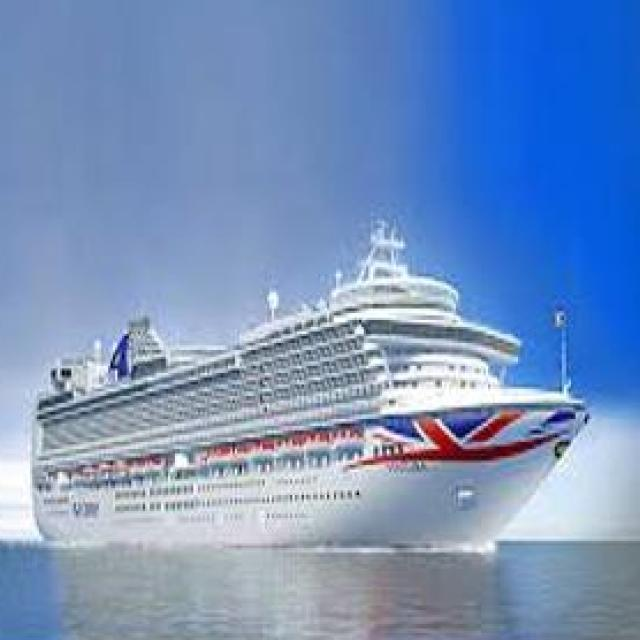passenger ship: (22, 221, 580, 550)
